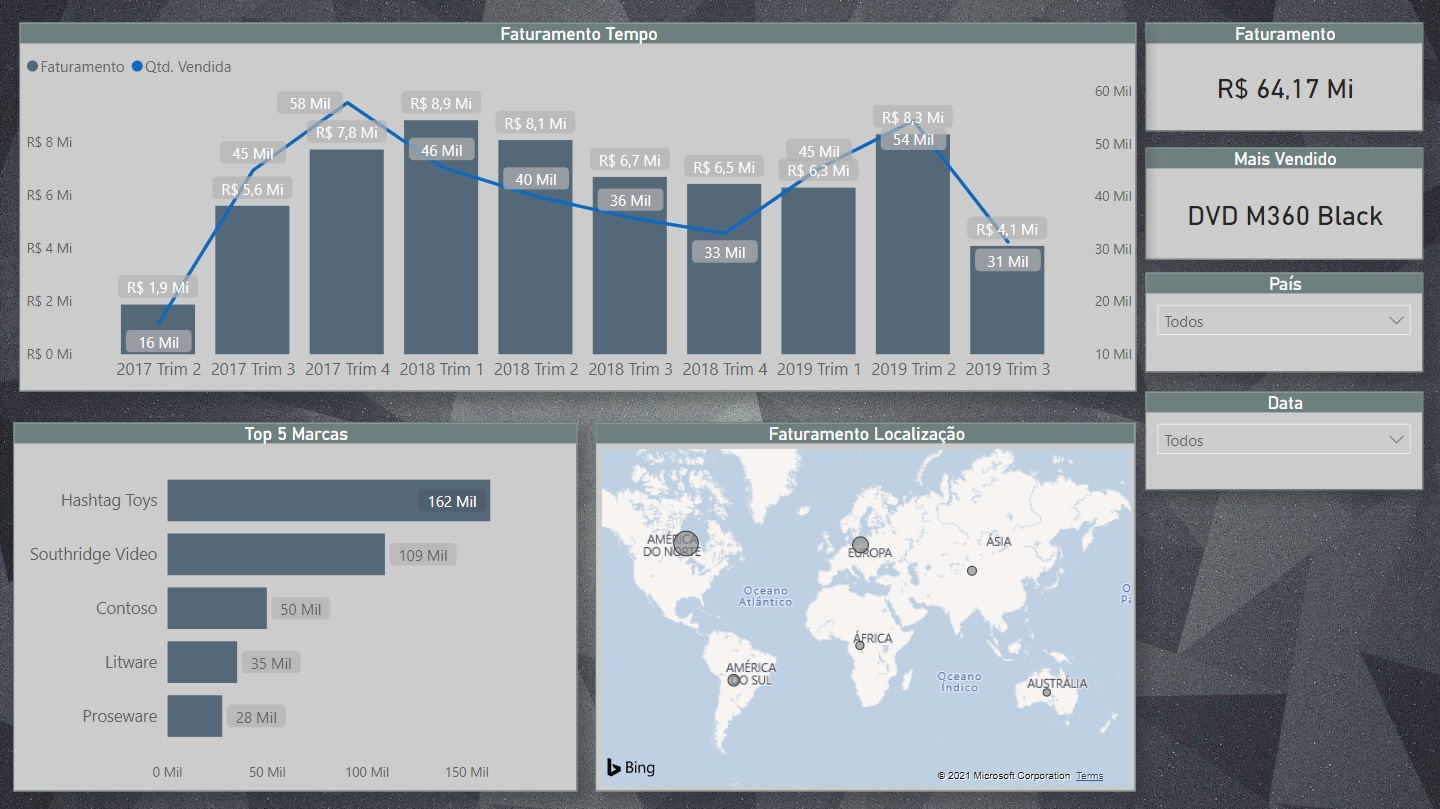

The dashboard page shown, as its layout file describes it:
{"tool":"powerbi","page":{"name":"Página 1","canvas":[1280,720],"ordinal":0},"visuals":[{"type":"card","title":"Faturamento","fields":{"Values":["Sum(BaseVendas.Faturamento)"]},"box":[1017.4,20.4,247.1,97.3],"z":0},{"type":"actionButton","box":[0,0,100,40],"z":1000},{"type":"card","title":"Mais Vendido","fields":{"Values":["Min(BaseVendas.Produto)"]},"box":[1017.4,131.3,247.1,100.2],"z":2000},{"type":"barChart","title":"Top 5 Marcas","fields":{"Category":["BaseVendas.Marca"],"Y":["Sum(BaseVendas.Qtd. Vendida)"]},"box":[12.6,375.4,500.9,327.8],"z":3000},{"type":"lineStackedColumnComboChart","title":"Faturamento Tempo","fields":{"Y":["Sum(BaseVendas.Faturamento)"],"Category":["BaseVendas.Data da Venda.Variation.Hierarquia de datas.Ano","BaseVendas.Data da Venda.Variation.Hierarquia de datas.Trimestre","BaseVendas.Data da Venda.Variation.Hierarquia de datas.Mês","BaseVendas.Data da Venda.Variation.Hierarquia de datas.Dia"],"Y2":["Sum(BaseVendas.Qtd. Vendida)"]},"box":[17.5,20.4,992.1,327.8],"z":4000},{"type":"map","title":"Faturamento Localização","fields":{"Size":["Sum(BaseVendas.Faturamento)"],"Category":["BaseVendas.Continente"]},"box":[529.1,375.4,480.5,327.8],"z":5000},{"type":"slicer","title":"País","fields":{"Values":["BaseVendas.País"]},"box":[1017.4,242.2,247.1,89.5],"z":5001},{"type":"slicer","title":"Data","fields":{"Values":["BaseVendas.Data da Venda.Variation.Hierarquia de datas.Ano","BaseVendas.Data da Venda.Variation.Hierarquia de datas.Mês"]},"box":[1017.4,348.2,247.1,87.5],"z":5002}]}

Visuals, with their boxes in screenshot pixels (x1, y1, x2, y2), scaled from the page's 1280x720 canvas onto the 1440x809 screenshot:
"Faturamento" card: pyautogui.locateOnScreen(1145, 23, 1423, 132)
actionButton: pyautogui.locateOnScreen(0, 0, 112, 45)
"Mais Vendido" card: pyautogui.locateOnScreen(1145, 148, 1423, 260)
"Top 5 Marcas" barChart: pyautogui.locateOnScreen(14, 422, 578, 790)
"Faturamento Tempo" lineStackedColumnComboChart: pyautogui.locateOnScreen(20, 23, 1136, 391)
"Faturamento Localização" map: pyautogui.locateOnScreen(595, 422, 1136, 790)
"País" slicer: pyautogui.locateOnScreen(1145, 272, 1423, 373)
"Data" slicer: pyautogui.locateOnScreen(1145, 391, 1423, 490)
